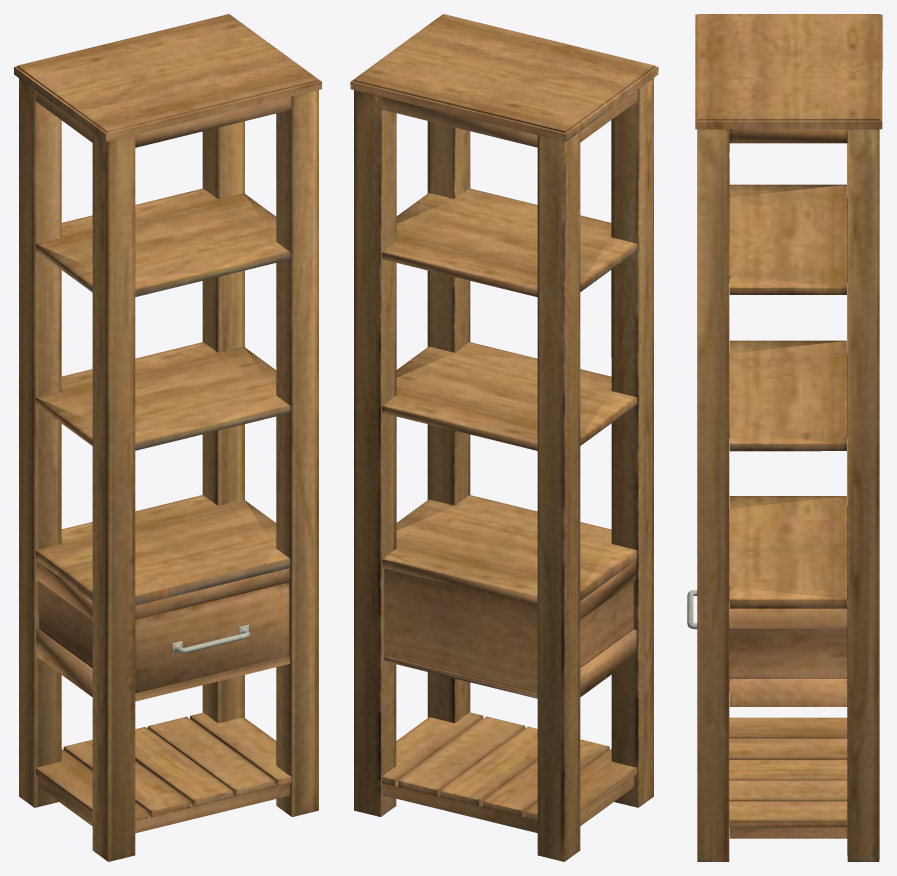
3 views of the same model, side by side, from view 1: azimuth 30°, elevation 25°; view 2: azimuth 150°, elevation 25°; view 3: azimuth 270°, elevation 25° (orthographic).
Visible parts, largest first — view 1: visual_RootNode; view 2: visual_RootNode; view 3: visual_RootNode.
Boxes of the visible parts, box(x1,y1,x2,y2) form: visual_RootNode: box(14, 14, 321, 861); visual_RootNode: box(350, 14, 658, 861); visual_RootNode: box(687, 14, 882, 861).
Size of the model in its own units: 0.5649 by 0.4348 by 1.83.
1 material, 1 textured.
